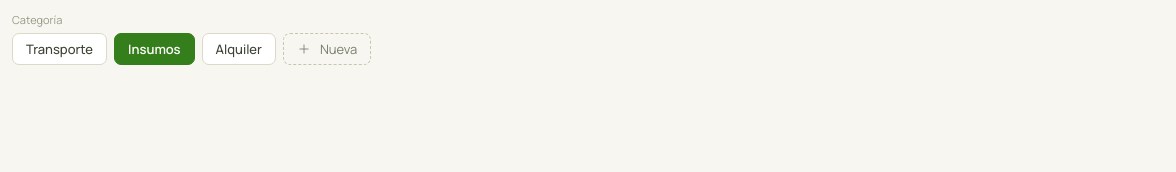
Test: CategoryChips › adding a category without leaving the form › asks for a name only once Nueva is clicked
Click the button "Nueva": (327, 49) x1=283 y1=33 x2=371 y2=65
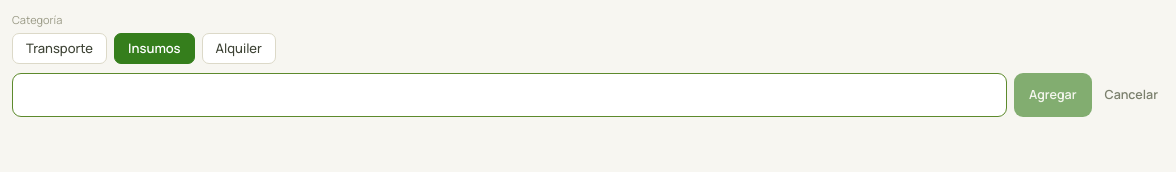
Expected: the button "Nueva" is gone
